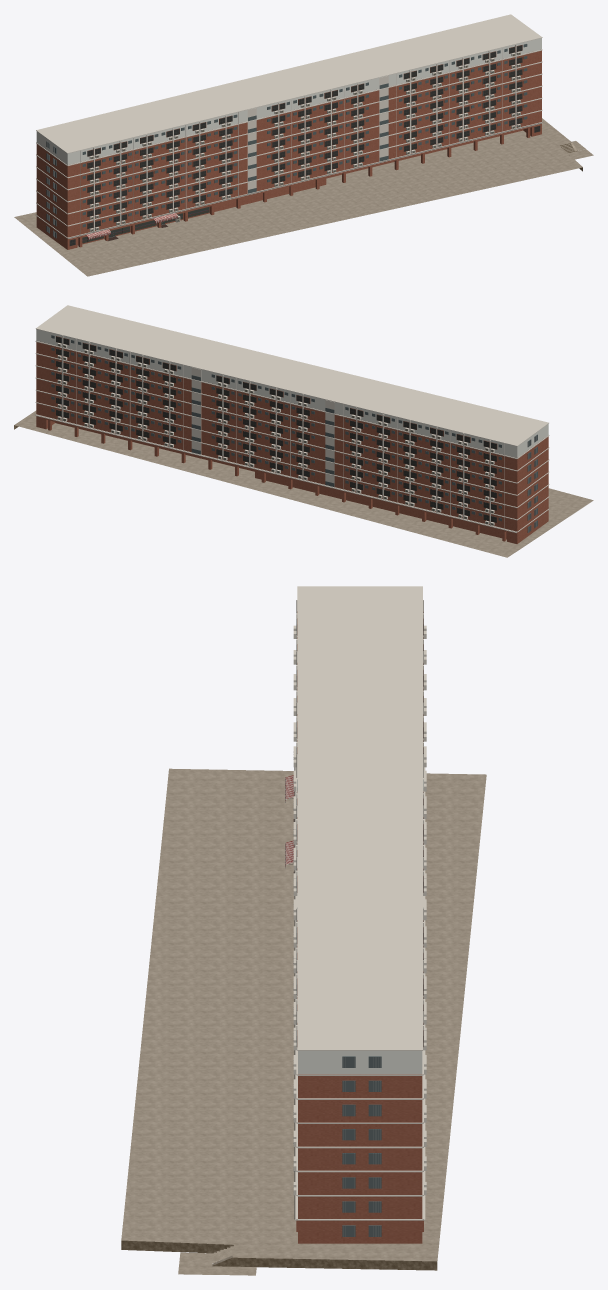
Rendered from chunk-dorm-way-759140893.glb.
3 renders of one model, top to bottom at view 1: azimuth 30°, elevation 25°; view 2: azimuth 150°, elevation 25°; view 3: azimuth 270°, elevation 25°, orthographic. The views are drawn at different scales.
Parts seen in each view (by area): view 1: chunk-dorm-way-759140893; view 2: chunk-dorm-way-759140893; view 3: chunk-dorm-way-759140893.
Part boxes in pixels (x1,y1,x2,y2): chunk-dorm-way-759140893: (14, 14, 593, 276); chunk-dorm-way-759140893: (14, 305, 593, 557); chunk-dorm-way-759140893: (121, 586, 486, 1275).
Size of the model in its own units: 146 by 27.78 by 45.29.
Materials: 20 (8 with a texture image).
